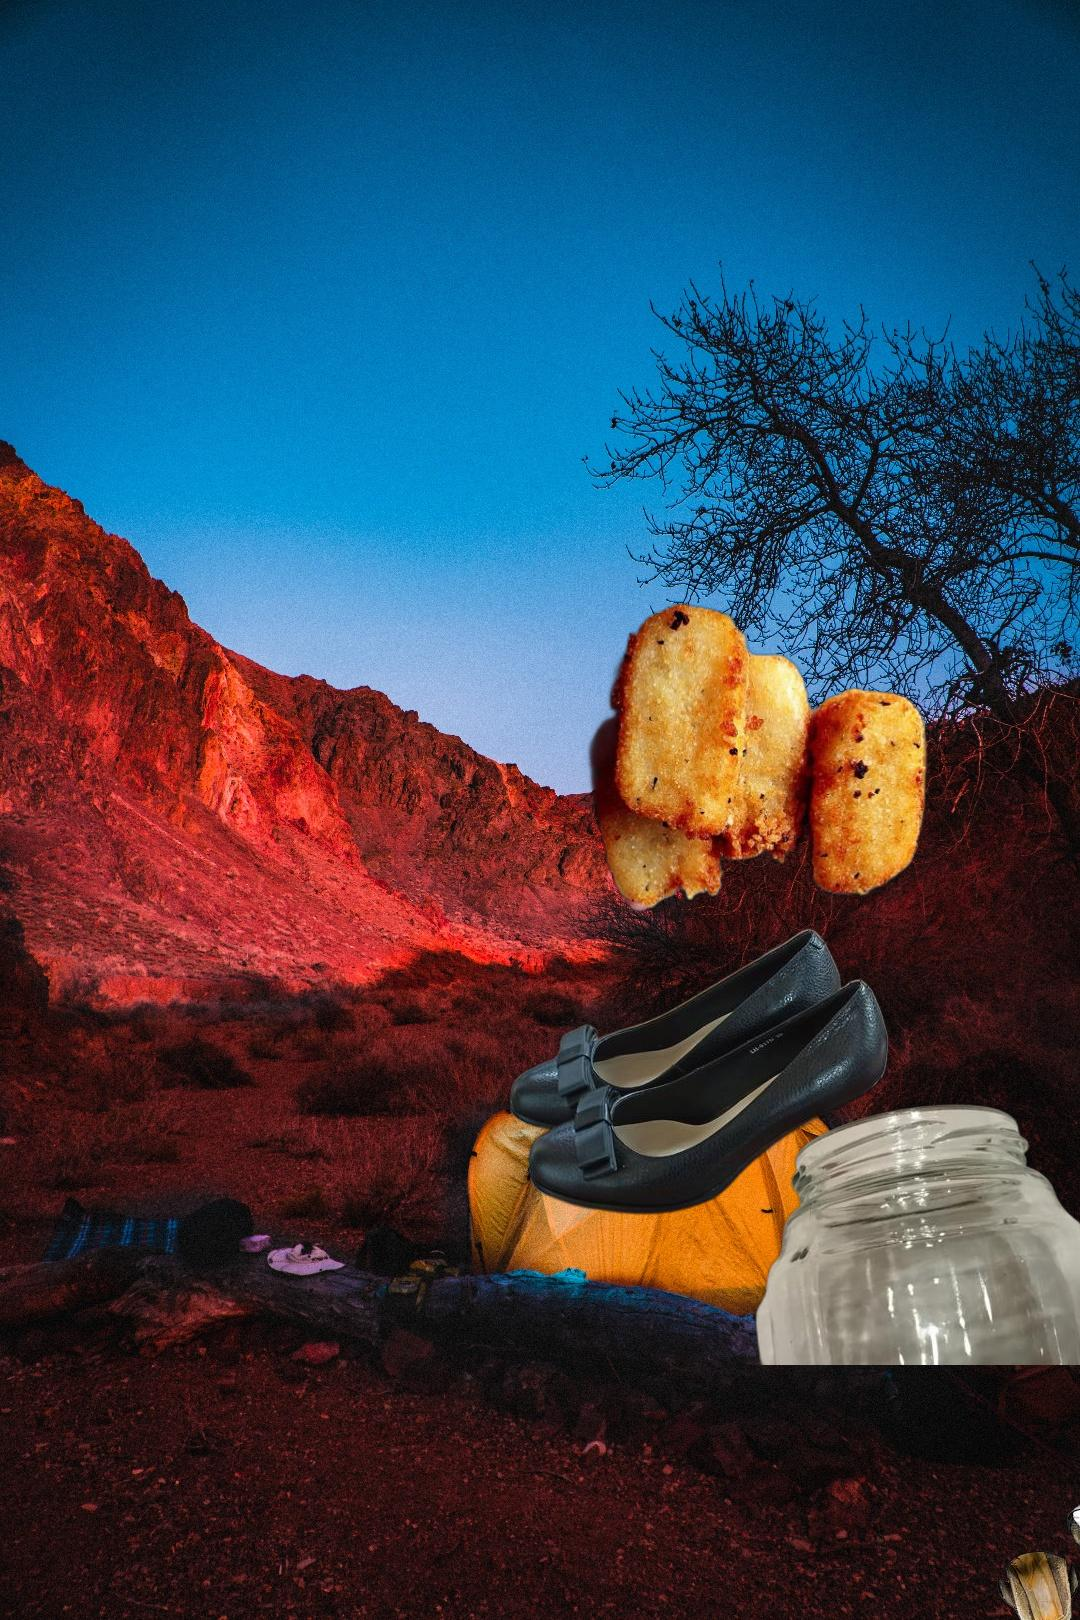biological: (582, 599, 933, 917)
glass: (751, 1101, 1080, 1365)
shoes: (507, 925, 893, 1217), (994, 1475, 1080, 1620)
